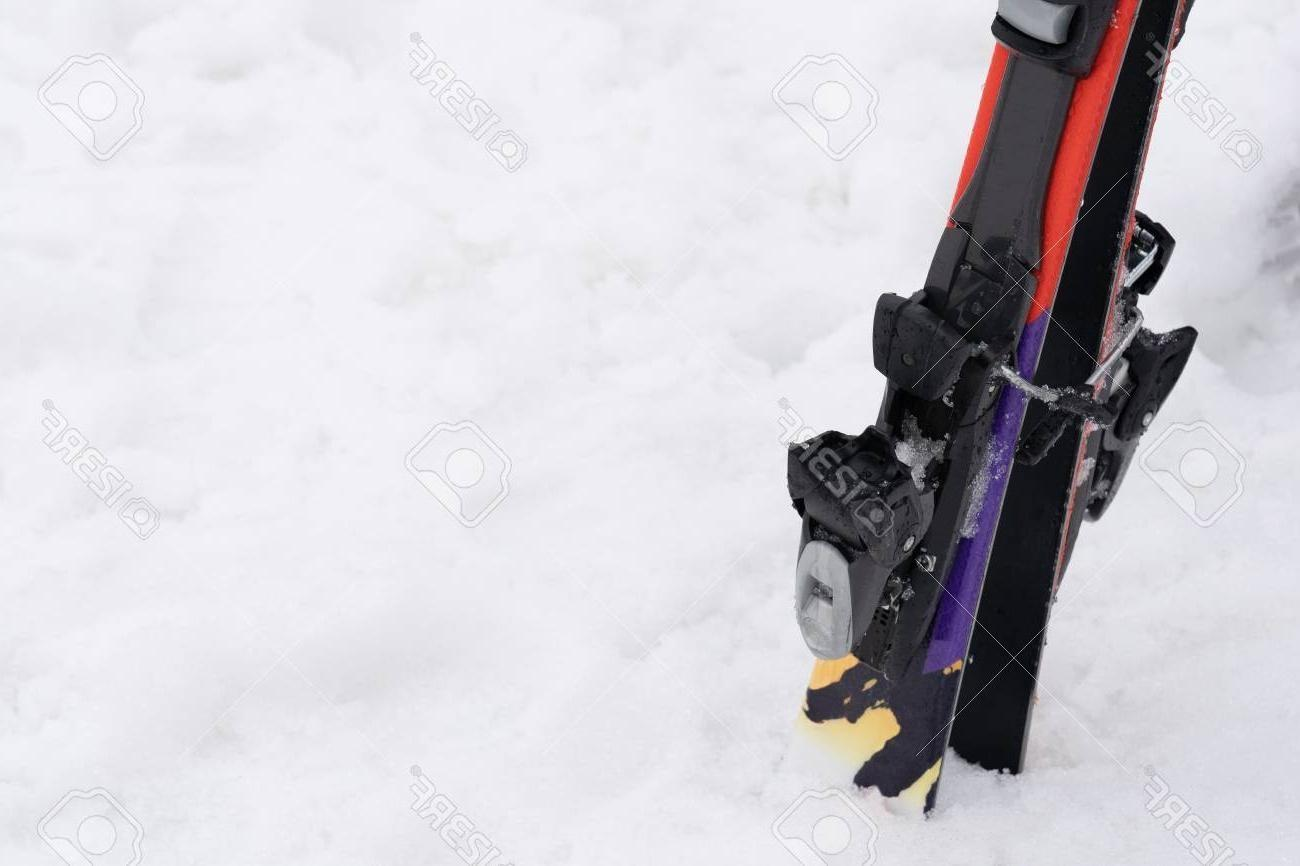Skis: (747, 0, 1253, 828)
